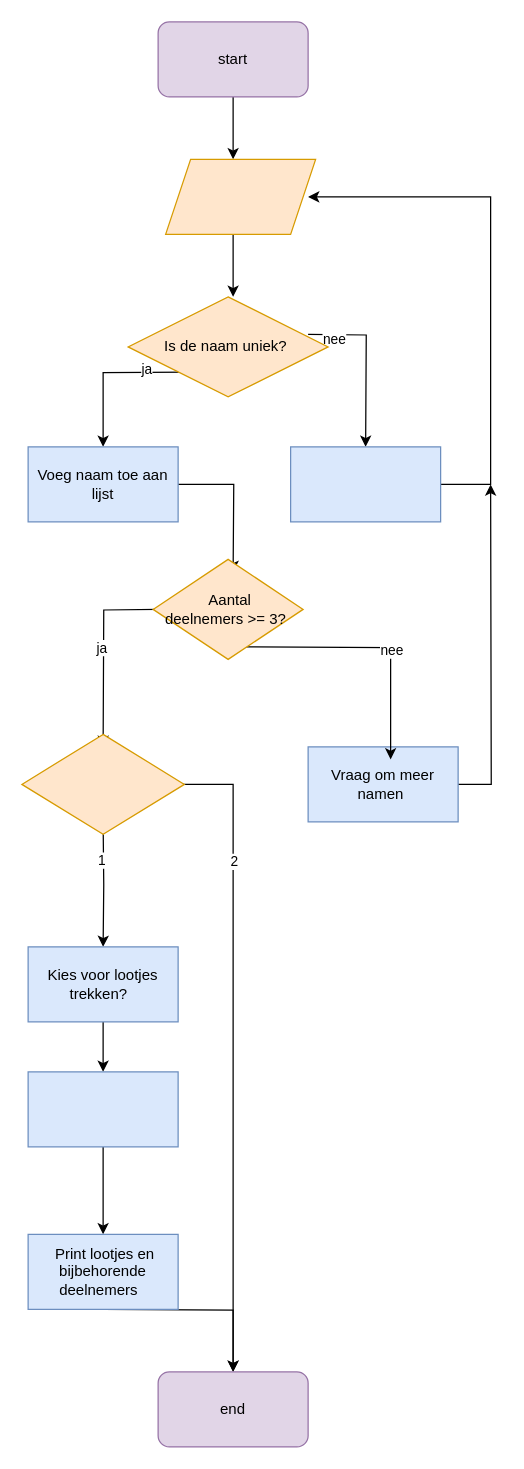
This 524x1469 diagram has some shape labels left out. The shapes that lost their labels are listed below. From the top down, each one's centre as x and y in pixels, then its label:
point 240,196: Vraag naar naam(s)(invoer van deelnemer)
point 365,484: Vraag om nieuwe naam
point 102,783: Kies optie: 1. Meer namen 2. Lootjes trekken
point 102,1109: Willekeurige lootjes trekken (controleer geen eigen naam)
